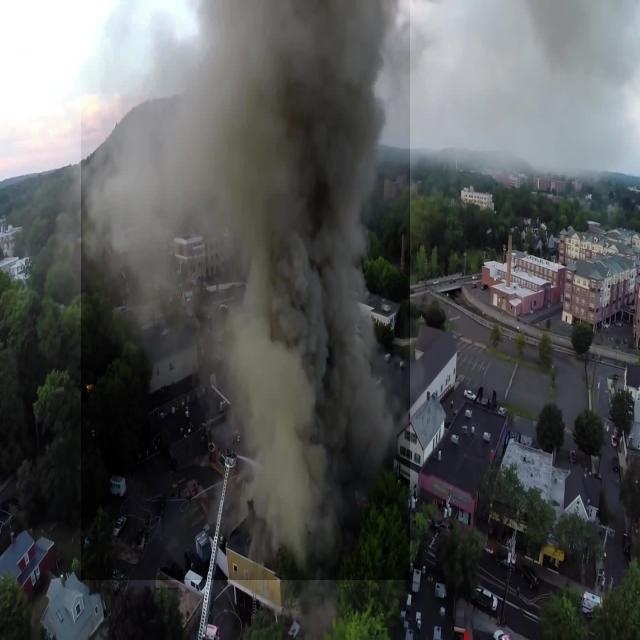Smoke: (81, 0, 410, 580)
